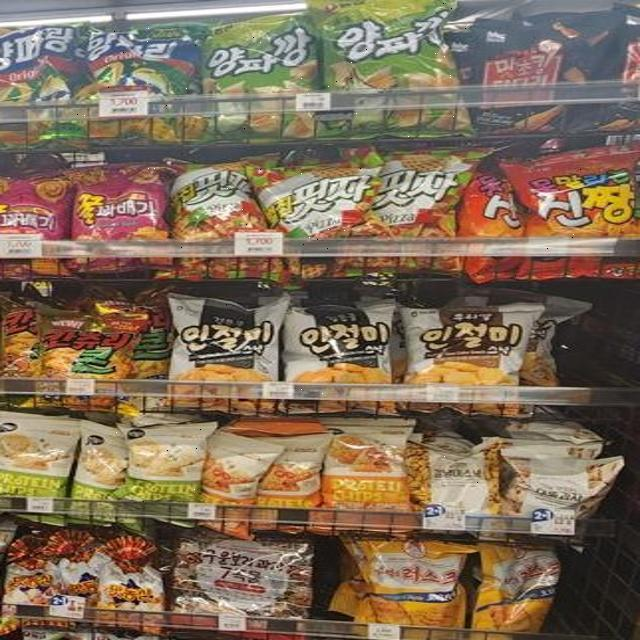product: (325, 1, 467, 138), (506, 155, 640, 277), (195, 9, 321, 138), (400, 299, 525, 409), (258, 156, 372, 266), (77, 27, 192, 136), (347, 532, 467, 633), (167, 293, 282, 392), (283, 303, 393, 400), (168, 156, 261, 269), (67, 160, 167, 262), (31, 306, 131, 403), (116, 425, 207, 522), (480, 537, 557, 634), (415, 444, 503, 516)
